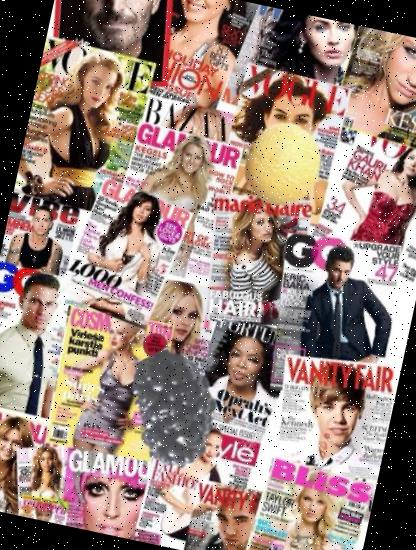Cantaloupe: (234, 116, 334, 216)
Mulberry: (105, 341, 241, 477)
